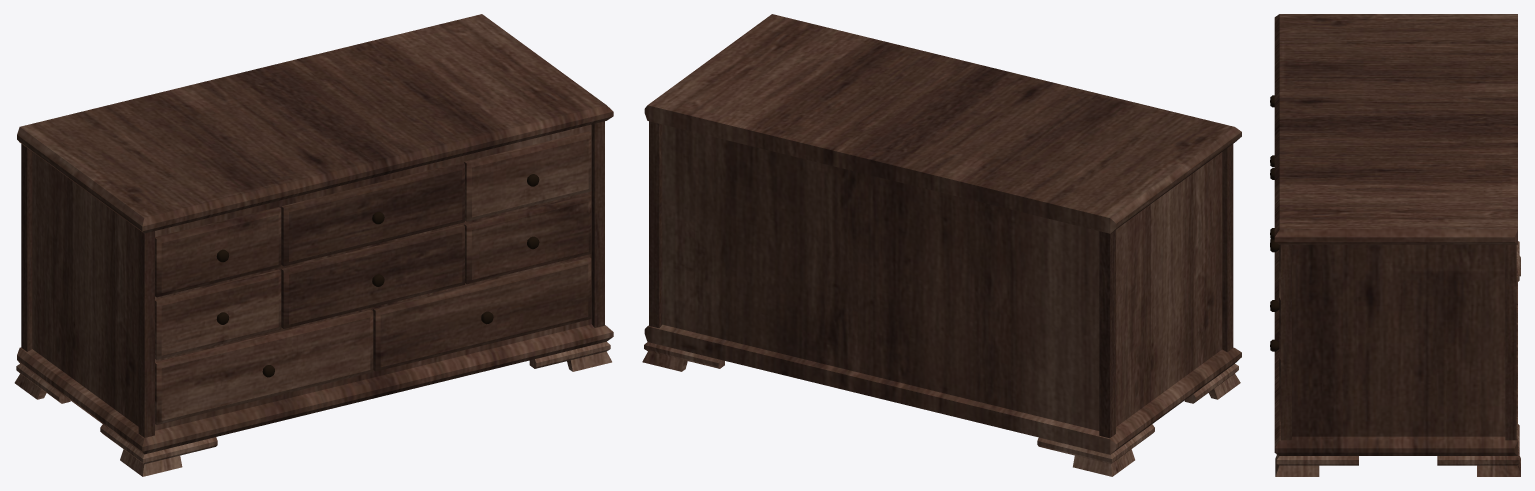
Rendered from drawer.fbx.
3 views of the same model, side by side, from view 1: azimuth 30°, elevation 25°; view 2: azimuth 150°, elevation 25°; view 3: azimuth 270°, elevation 25° (orthographic). The views are drawn at different scales.
Parts seen in each view (by area): view 1: b_low, a_low, c_low, e_low, d_low; view 2: b_low, c_low, e_low; view 3: b_low, c_low, e_low, d_low, a_low.
Boxes of the visible parts, left/top/right/bottom form: b_low: left=17, top=14, right=613, bottom=454; a_low: left=155, top=131, right=591, bottom=424; c_low: left=21, top=121, right=604, bottom=437; e_low: left=14, top=341, right=611, bottom=476; d_low: left=216, top=174, right=539, bottom=377; b_low: left=644, top=14, right=1241, bottom=454; c_low: left=649, top=121, right=1233, bottom=438; e_low: left=642, top=342, right=1240, bottom=476; b_low: left=1274, top=14, right=1517, bottom=455; c_low: left=1280, top=244, right=1516, bottom=440; e_low: left=1275, top=241, right=1520, bottom=476; d_low: left=1270, top=95, right=1279, bottom=351; a_low: left=1279, top=244, right=1280, bottom=421.
Bounding box in the file's own units: 0.7308 × 0.3801 × 0.3522.
